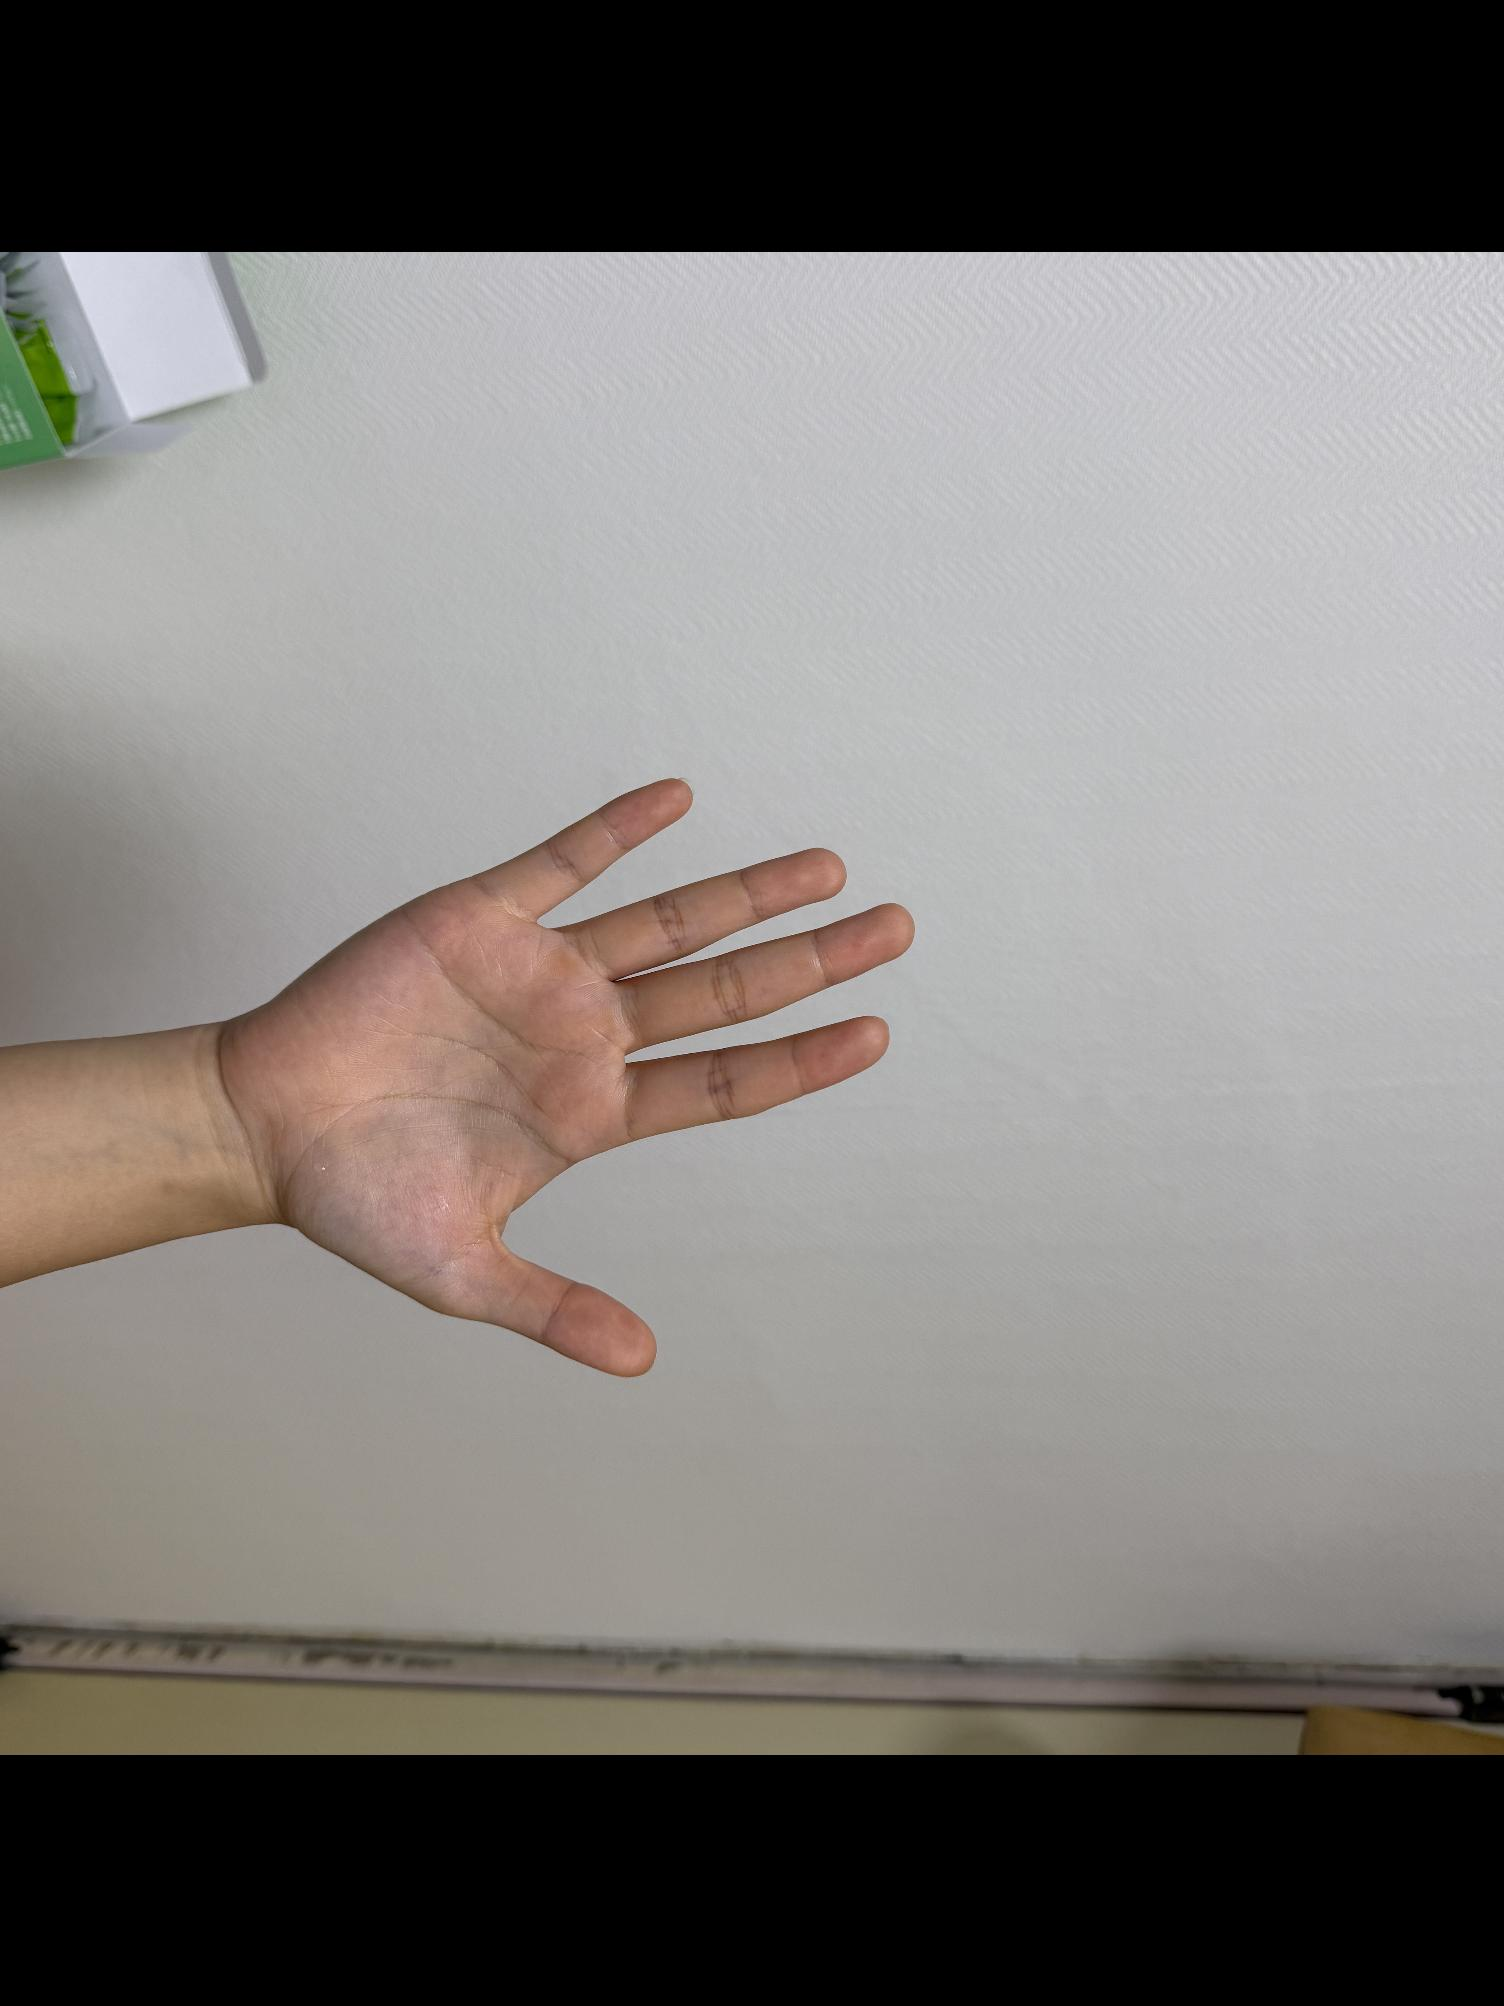open: (186, 757, 923, 1382)
